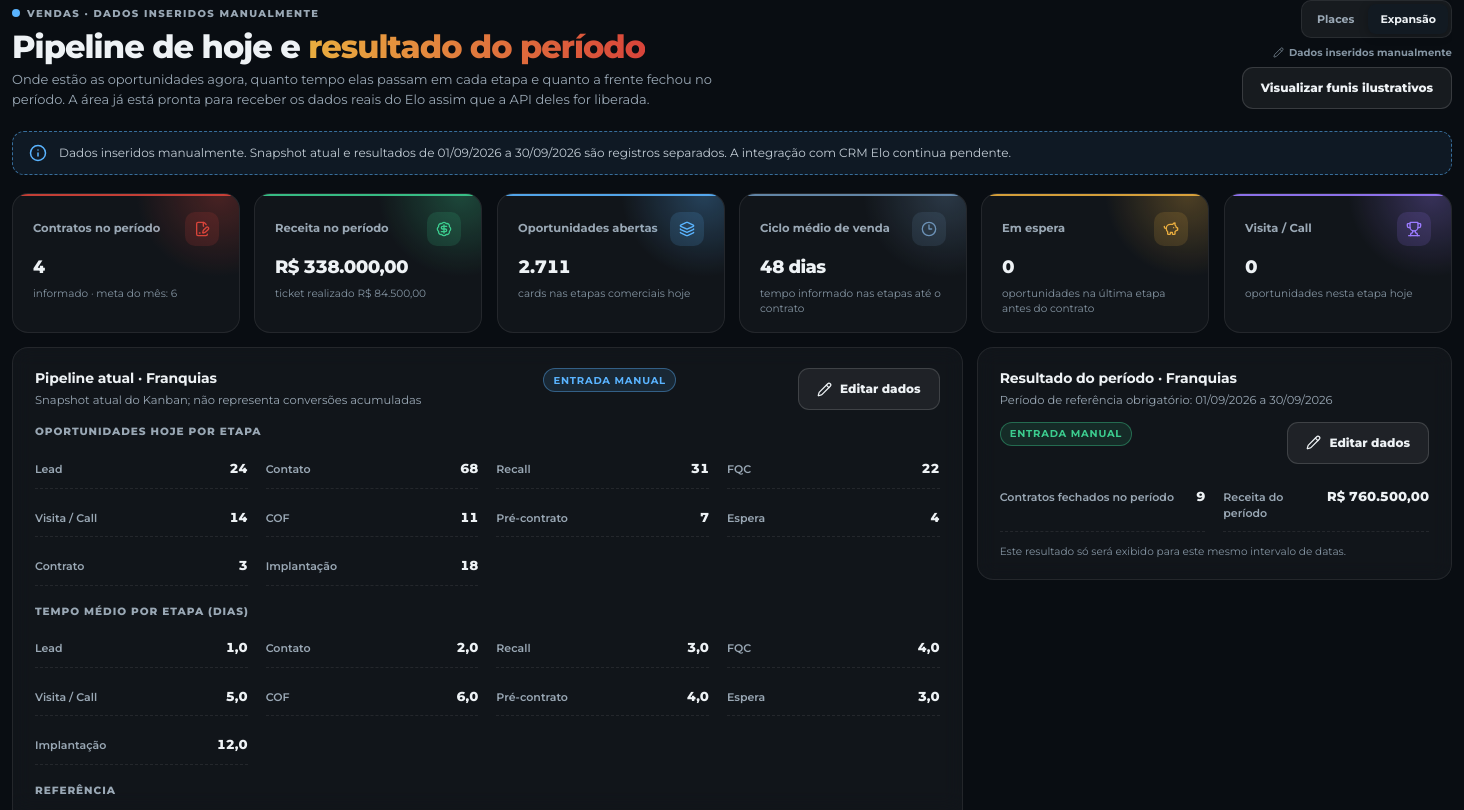
Test case: editor manual em demonstracao › tem um bloco separado para contratos fechados e receita do período
Expected: the element that starts with "Resultado do período · Franquias" is shown, [977,347,1452,580]
Click the button "Editar dados" below "Resultado do período · Franquias".
click(1358, 442)  # box [1287,422,1429,464]
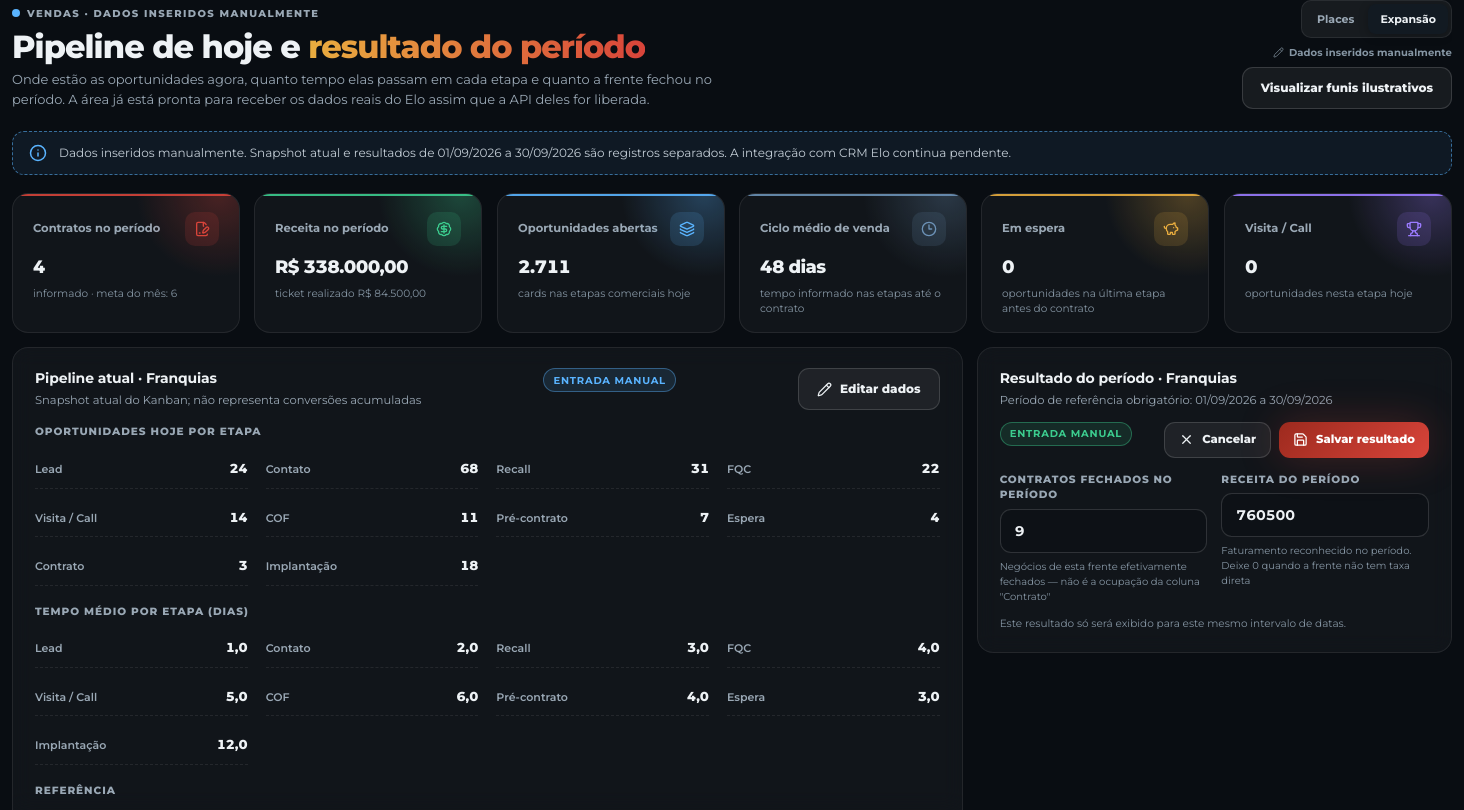
Expected: the number field labelled "Contratos fechados no período" is shown, [1000,509,1207,553]
Expected: the number field labelled "Receita do período" is shown, [1221,493,1429,537]
